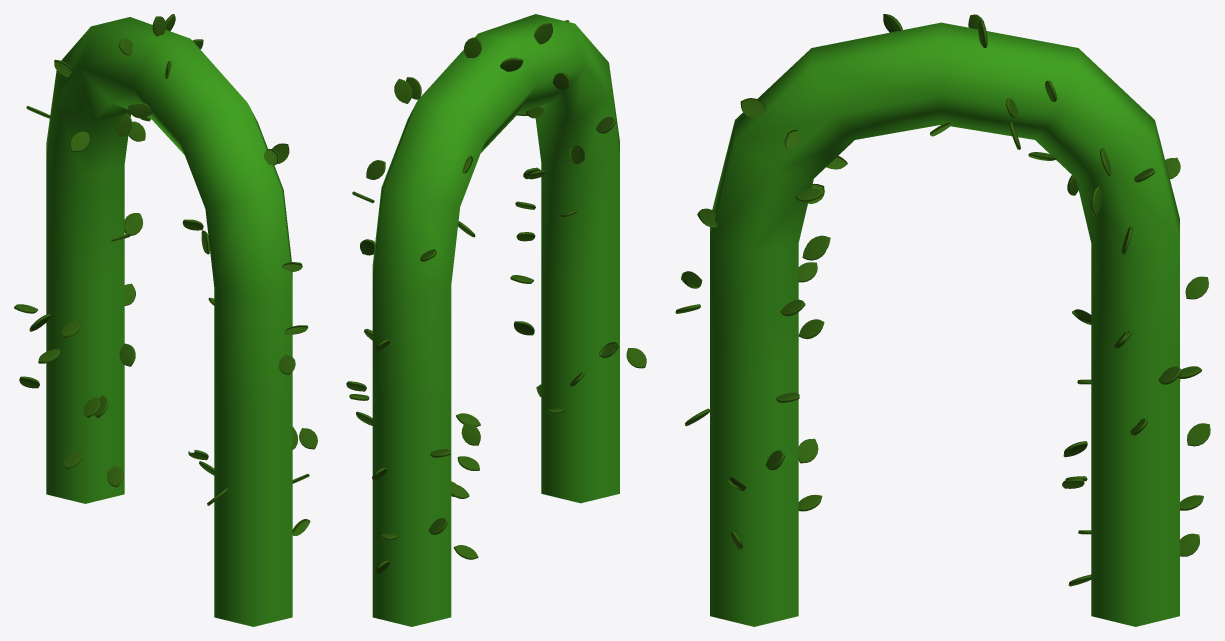
Rendered from grass door3.fbx.
3 renders of one model, left to right at view 1: azimuth 30°, elevation 25°; view 2: azimuth 150°, elevation 25°; view 3: azimuth 270°, elevation 25°, orthographic. The views are drawn at different scales.
Parts seen in each view (by area): view 1: Circle.054; view 2: Circle.054; view 3: Circle.054.
Boxes of the visible parts, left/top/right/bottom form: Circle.054: left=14, top=14, right=317, bottom=626; Circle.054: left=346, top=14, right=646, bottom=626; Circle.054: left=675, top=14, right=1210, bottom=626.
Size of the model in its own units: 151 by 501 by 606.
